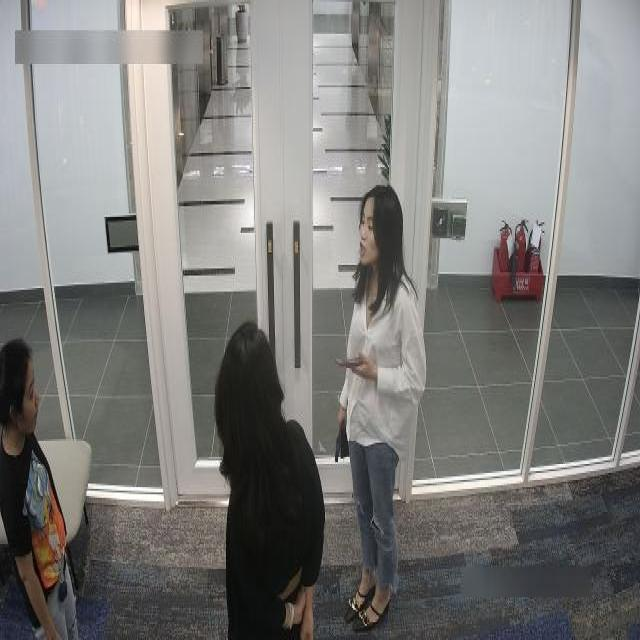bare_hand: (352, 347, 383, 396), (296, 596, 322, 638), (287, 592, 308, 628), (335, 395, 350, 439)
